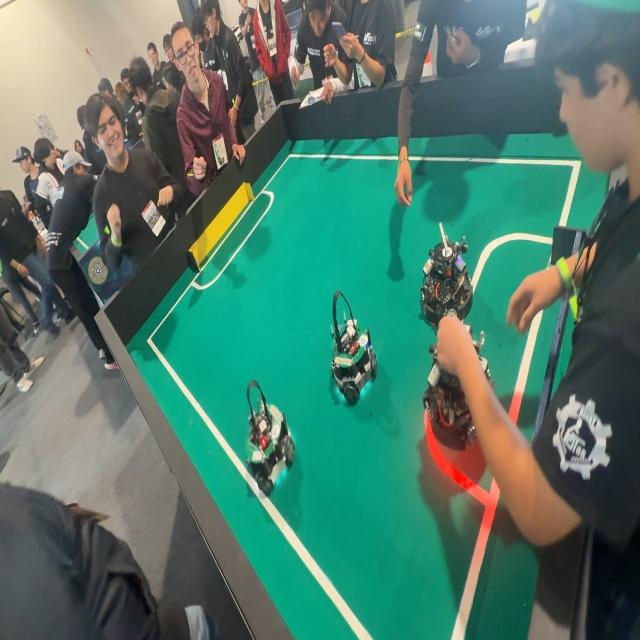Robot: (218, 375, 304, 514), (419, 334, 500, 461), (321, 286, 383, 424), (418, 227, 479, 328)
